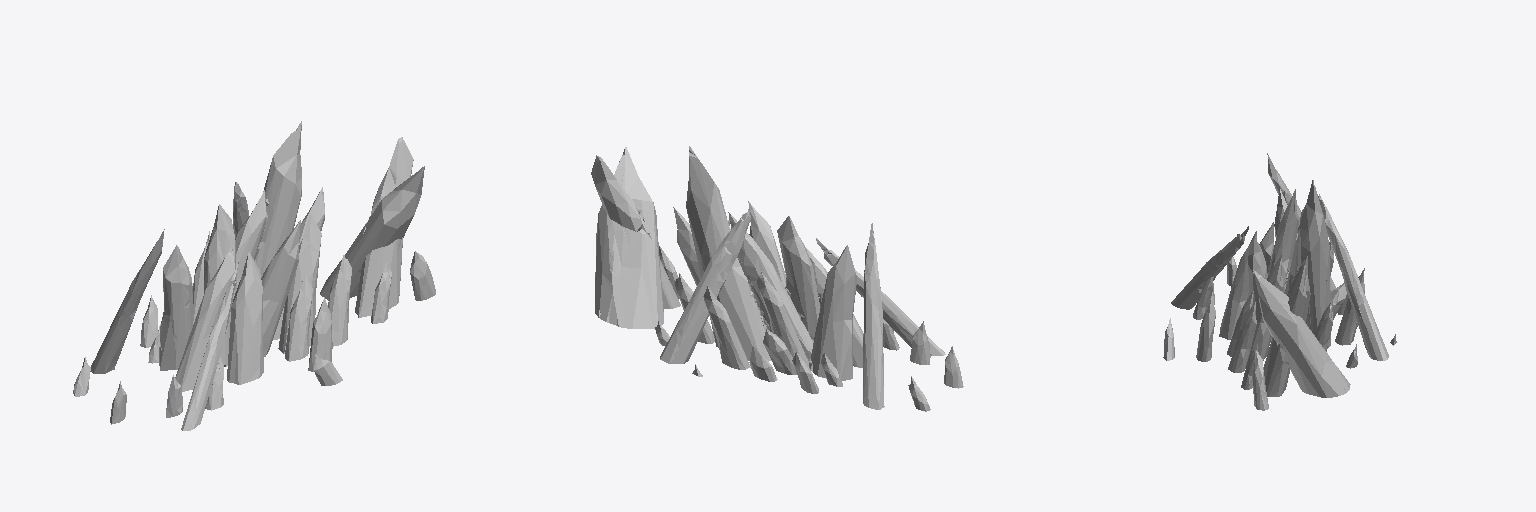
File: crystals.obj
3 views of the same model, side by side, from view 1: azimuth 30°, elevation 25°; view 2: azimuth 150°, elevation 25°; view 3: azimuth 270°, elevation 25° (orthographic).
Visible parts, largest first — view 1: Icosphere.016; view 2: Icosphere.016; view 3: Icosphere.016.
Boxes of the visible parts, x1=… form: Icosphere.016: x1=73, y1=121, x2=435, y2=430; Icosphere.016: x1=591, y1=146, x2=963, y2=411; Icosphere.016: x1=1163, y1=153, x2=1396, y2=410.
Size of the model in its own units: 7.93 by 4.77 by 4.65.